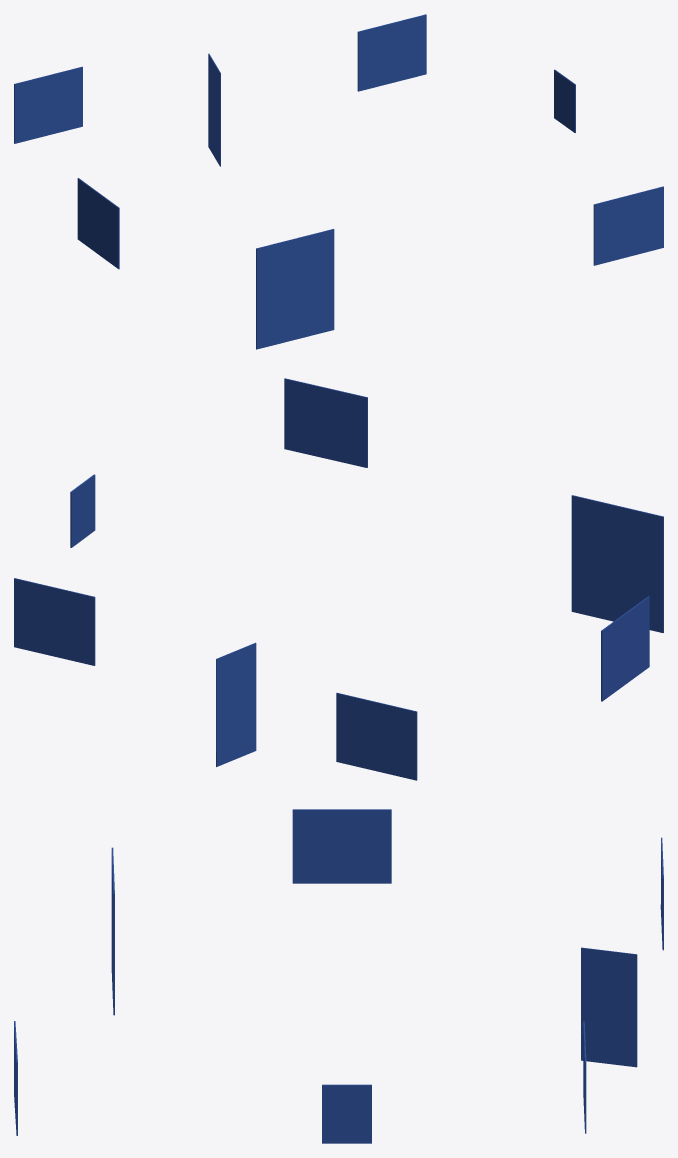
Rendered from windows_.obj.
3 renders of one model, top to bottom at view 1: azimuth 30°, elevation 25°; view 2: azimuth 150°, elevation 25°; view 3: azimuth 270°, elevation 25°, orthographic. The views are drawn at different scales.
Parts seen in each view (by area): view 1: pasted__polySurface5; view 2: pasted__polySurface5; view 3: pasted__polySurface5.
Part boxes in pixels (box(x1,y1,x2,y2)): pasted__polySurface5: box(14, 14, 663, 349); pasted__polySurface5: box(14, 378, 663, 780); pasted__polySurface5: box(14, 809, 663, 1143).
Bounding box in the file's own units: 75.57 × 15.68 × 75.15.
Materials: 2 (2 with a texture image).
